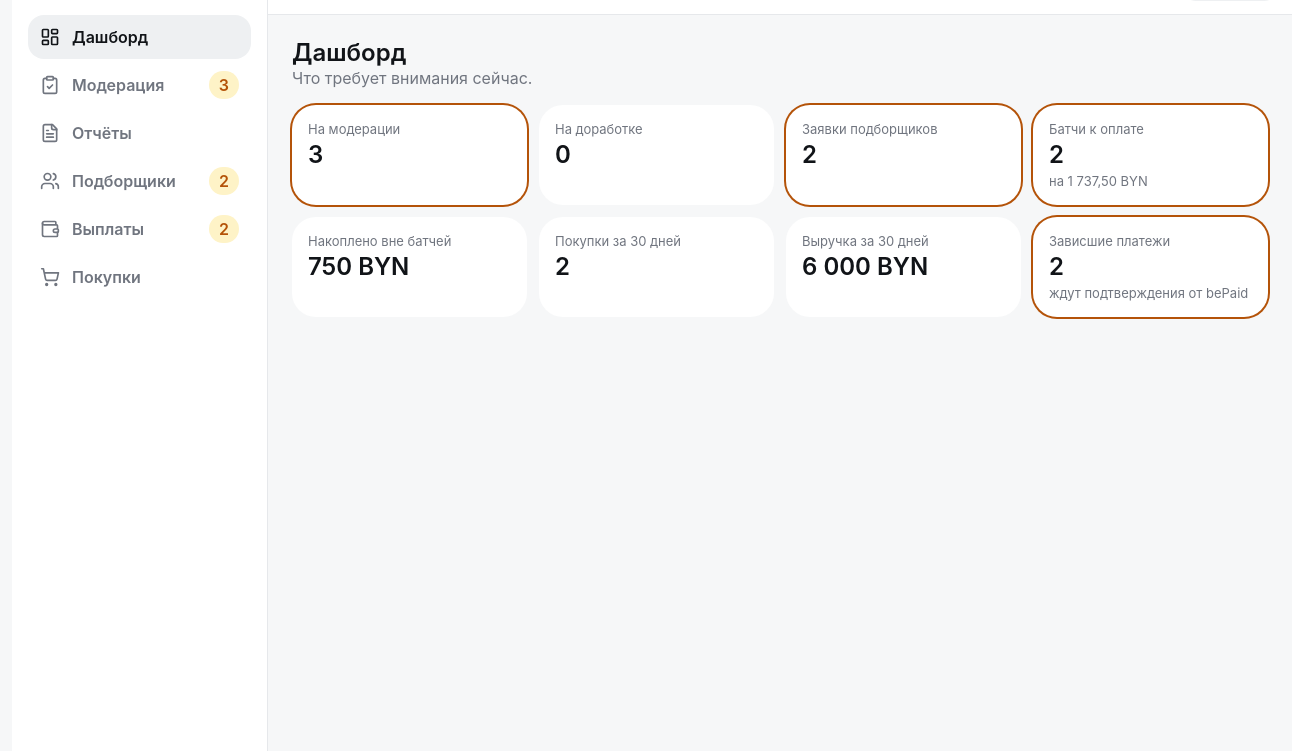
Test case: дашборд › карточка inspectorsPending ведёт на отфильтрованный список /inspectors?status=pending
Click the link "Заявки подборщиков 2": click(904, 155) x1=786 y1=105 x2=1021 y2=205
(page scrolled)
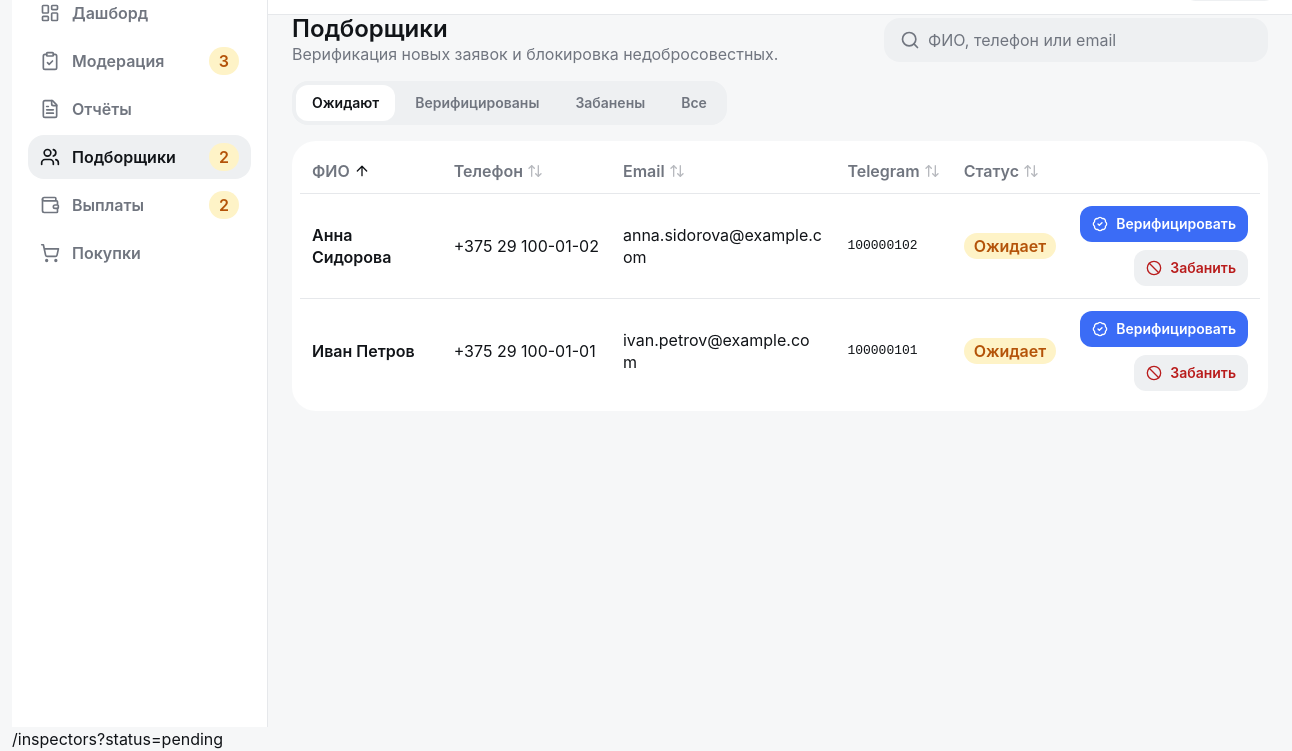
Expected: the text with test id "location" reads "/inspectors?status=pending", x1=12 y1=729 x2=223 y2=749
